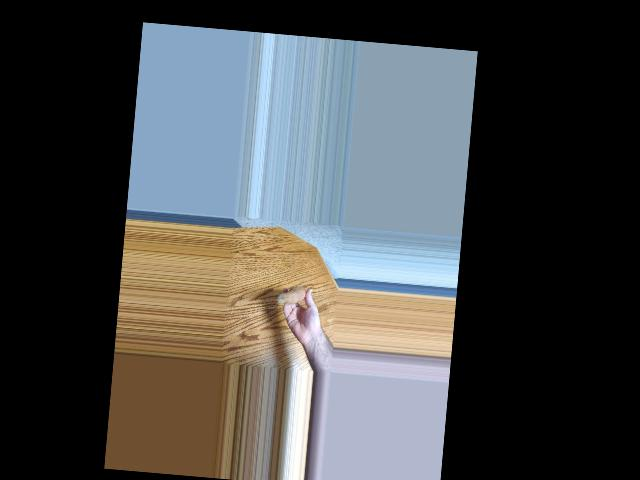sweet_potato: (276, 287, 308, 308)
